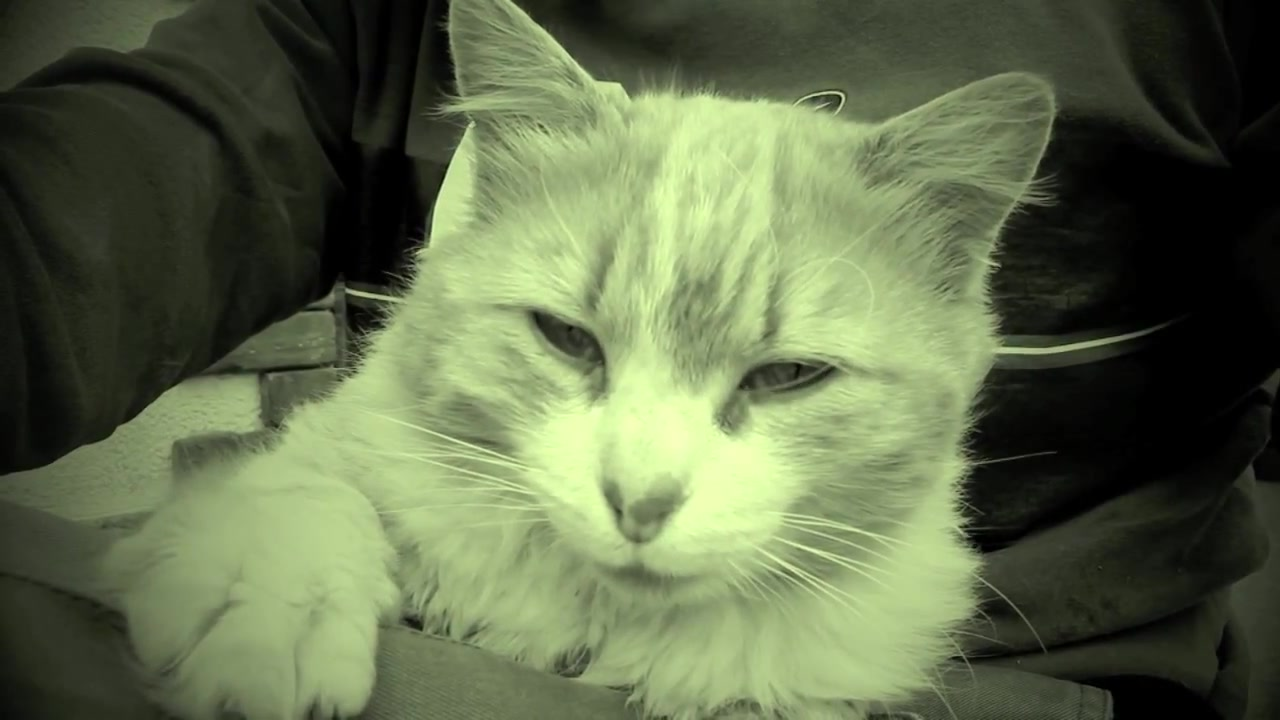cat: (108, 1, 1062, 720)
